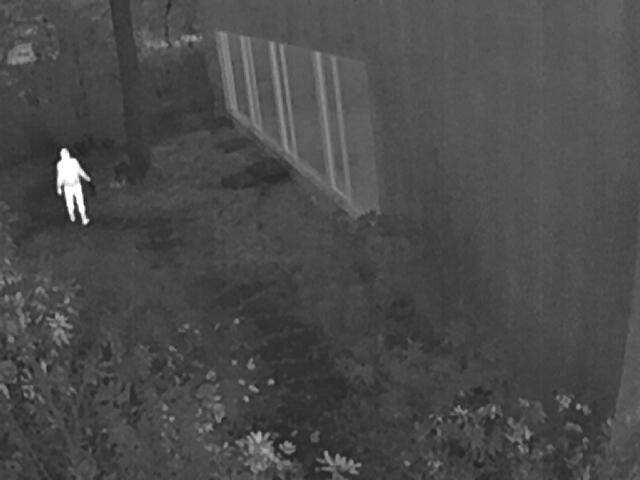person: (54, 147, 90, 225)
